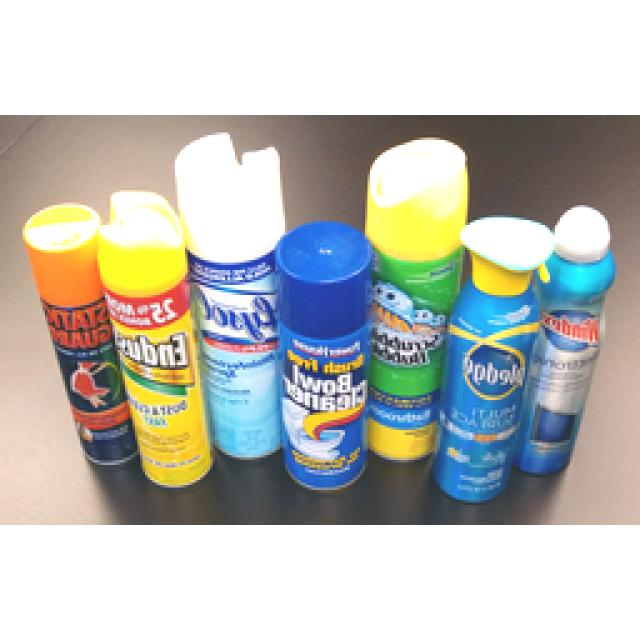B3: (181, 133, 287, 461), (99, 195, 214, 488), (365, 137, 468, 464), (435, 215, 550, 503), (23, 203, 139, 467), (516, 214, 620, 478), (275, 221, 373, 490)
